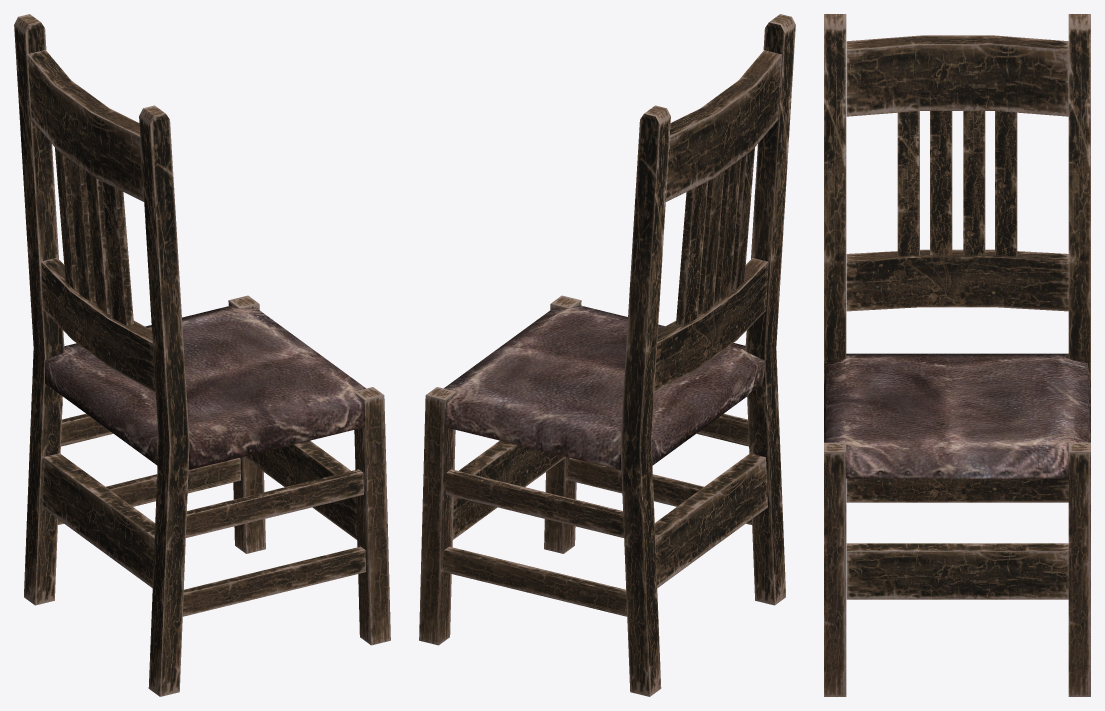
The model's file is Highback Prison Chair.obj.
3 views of the same model, side by side, from view 1: azimuth 30°, elevation 25°; view 2: azimuth 150°, elevation 25°; view 3: azimuth 270°, elevation 25° (orthographic). The views are drawn at different scales.
Visible parts, largest first — view 1: OBJ_Chair_Plain_PrisonHighBack; view 2: OBJ_Chair_Plain_PrisonHighBack; view 3: OBJ_Chair_Plain_PrisonHighBack.
Boxes of the visible parts, <box> form: OBJ_Chair_Plain_PrisonHighBack: <box>14,14,390,696</box>; OBJ_Chair_Plain_PrisonHighBack: <box>419,14,795,696</box>; OBJ_Chair_Plain_PrisonHighBack: <box>824,14,1090,696</box>.
Size of the model in its own units: 50.92 by 113 by 48.
1 material, 1 textured.
